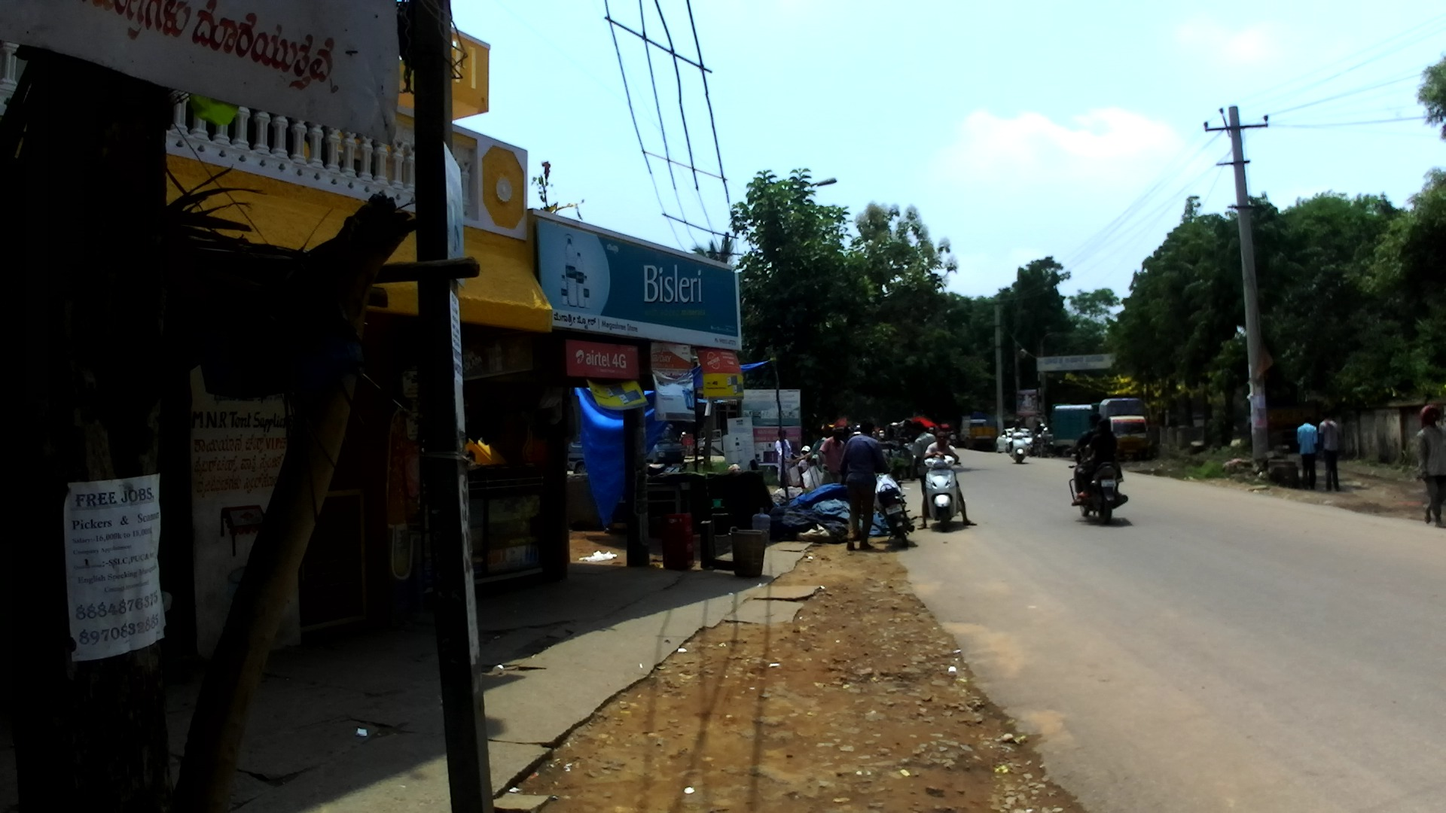autorickshaw: (958, 418, 999, 451)
car: (566, 422, 687, 473), (995, 427, 1036, 455)
motorcycle: (1067, 443, 1129, 526), (874, 446, 919, 550), (924, 455, 963, 531), (1008, 432, 1030, 464), (1027, 435, 1045, 458), (947, 430, 959, 449)
person: (1415, 403, 1445, 530), (908, 420, 937, 519), (1317, 410, 1341, 492), (1295, 415, 1320, 491), (818, 423, 847, 487), (792, 430, 828, 479), (774, 428, 800, 482), (897, 421, 918, 480), (865, 435, 897, 451), (878, 428, 889, 446), (801, 446, 812, 455), (869, 431, 879, 440)
rider: (838, 419, 887, 550), (916, 429, 978, 531), (1075, 419, 1124, 498), (1071, 411, 1105, 508), (1007, 418, 1028, 455), (1030, 421, 1046, 451), (850, 425, 862, 438)
truck: (1243, 373, 1321, 453), (1099, 397, 1152, 460), (1047, 403, 1101, 458)
